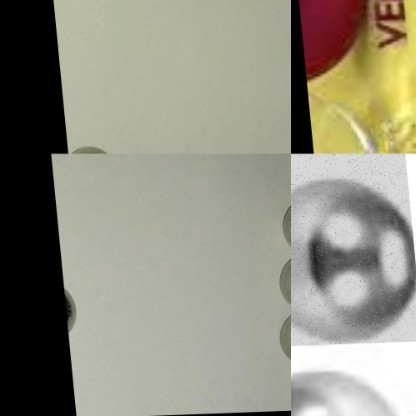ironball: (290, 153, 415, 347), (290, 368, 415, 415)
